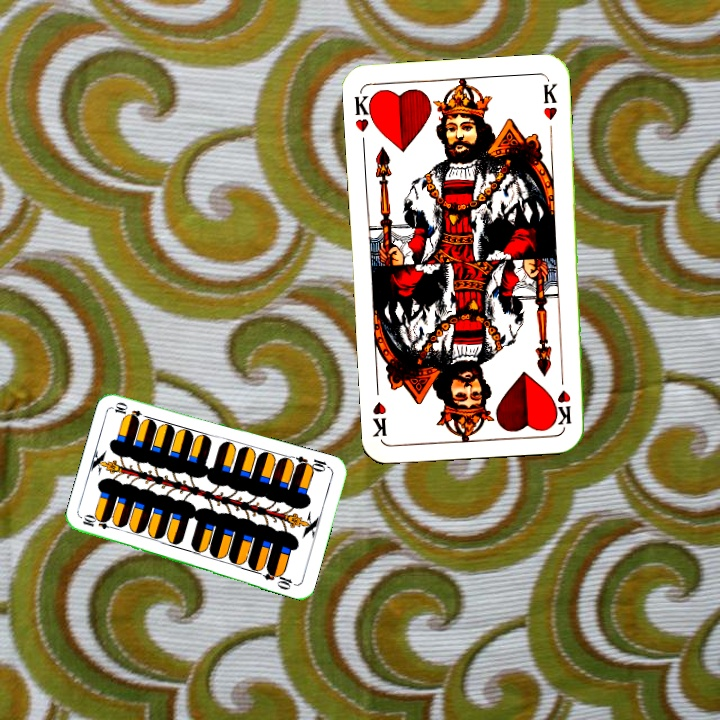E10: (292, 452, 333, 474), (79, 513, 119, 532)
HK: (553, 368, 574, 428), (350, 89, 378, 134)
